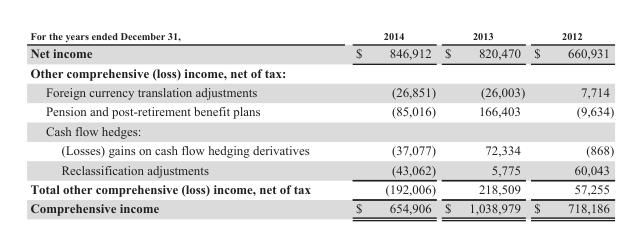table: (29, 29, 613, 215)
table column: (29, 29, 332, 215), (332, 29, 439, 215), (439, 29, 528, 215), (528, 29, 613, 215)
table column header: (29, 29, 613, 43)
table projected row header: (29, 120, 613, 140), (29, 62, 613, 81)
table row: (29, 81, 613, 101), (29, 120, 613, 140), (29, 178, 613, 198), (29, 43, 613, 62), (29, 62, 613, 81), (29, 101, 613, 120), (29, 140, 613, 159), (29, 159, 613, 178), (29, 198, 613, 215), (29, 29, 613, 43)
